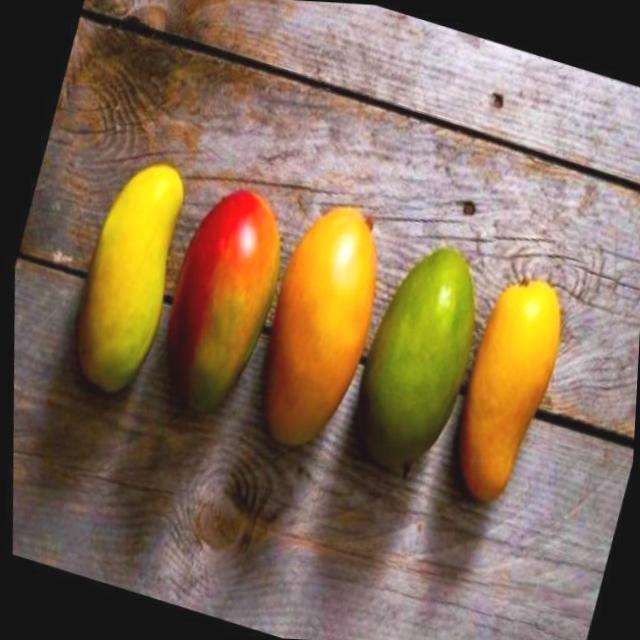Mango: (268, 202, 386, 438), (168, 187, 282, 410), (78, 157, 185, 390), (462, 270, 568, 500), (370, 242, 474, 448)
